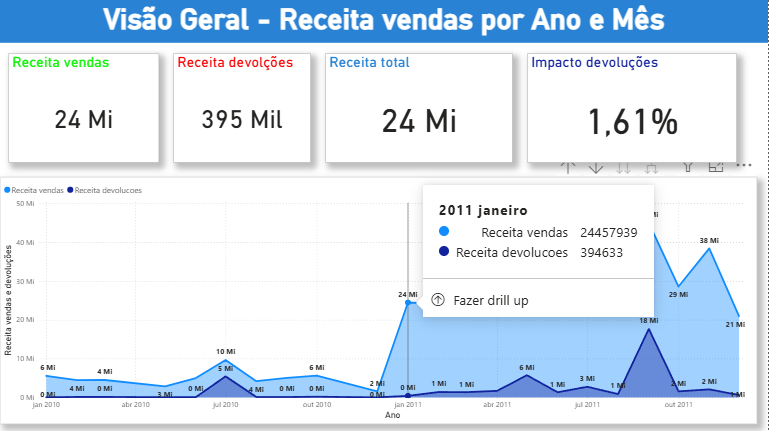

This screenshot's page, from the dashboard's own definition file:
{"tool":"powerbi","page":{"name":"Receita por mês","canvas":[1280,720],"ordinal":0},"visuals":[{"type":"actionButton","box":[0,0,100,40],"z":0},{"type":"areaChart","fields":{"Category":["dataset_tratado.InvoiceDate.Variation.Hierarquia de datas.Ano","dataset_tratado.InvoiceDate.Variation.Hierarquia de datas.Mês"],"Y":["dataset_tratado.Receita vendas","dataset_tratado.Receita devolucoes"]},"box":[0,296.7,1261.7,411.7],"z":1000},{"type":"textbox","box":[0,0,1280,73.3],"z":2000},{"type":"card","title":"Receita vendas","fields":{"Values":["dataset_tratado.Receita vendas"]},"box":[13.3,90,251.7,183.3],"z":3000},{"type":"card","title":"Receita devolções","fields":{"Values":["dataset_tratado.Receita devolucoes"]},"box":[288.3,90,230,183.3],"z":4000},{"type":"card","title":"Receita total","fields":{"Values":["dataset_tratado.Receita total"]},"box":[541.7,90,313.3,183.3],"z":5000},{"type":"card","title":"Impacto devoluções","fields":{"Values":["dataset_tratado.Impacto devolucoes"]},"box":[878.3,90,350,183.3],"z":6000}]}

Visuals, with their boxes in screenshot pixels (x1, y1, x2, y2), scaled from the page's 1280x720 canvas onto the 769x431 screenshot:
actionButton: bbox=[0, 0, 60, 24]
areaChart - dataset_tratado.InvoiceDate.Variation.Hierarquia de datas.Ano x dataset_tratado.InvoiceDate.Variation.Hierarquia de datas.Mês: bbox=[0, 178, 758, 424]
textbox: bbox=[0, 0, 768, 44]
"Receita vendas" card: bbox=[8, 54, 159, 164]
"Receita devolções" card: bbox=[173, 54, 311, 164]
"Receita total" card: bbox=[325, 54, 514, 164]
"Impacto devoluções" card: bbox=[528, 54, 738, 164]
